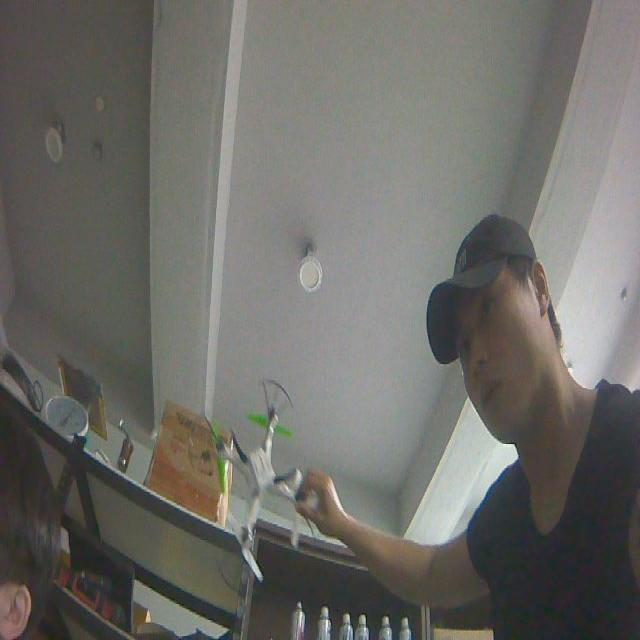drone: (188, 374, 331, 599)
